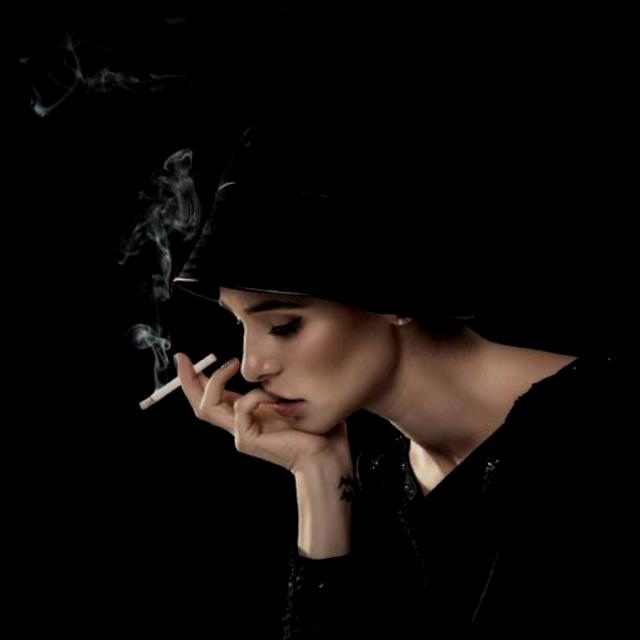cigarette: (137, 372, 188, 412)
